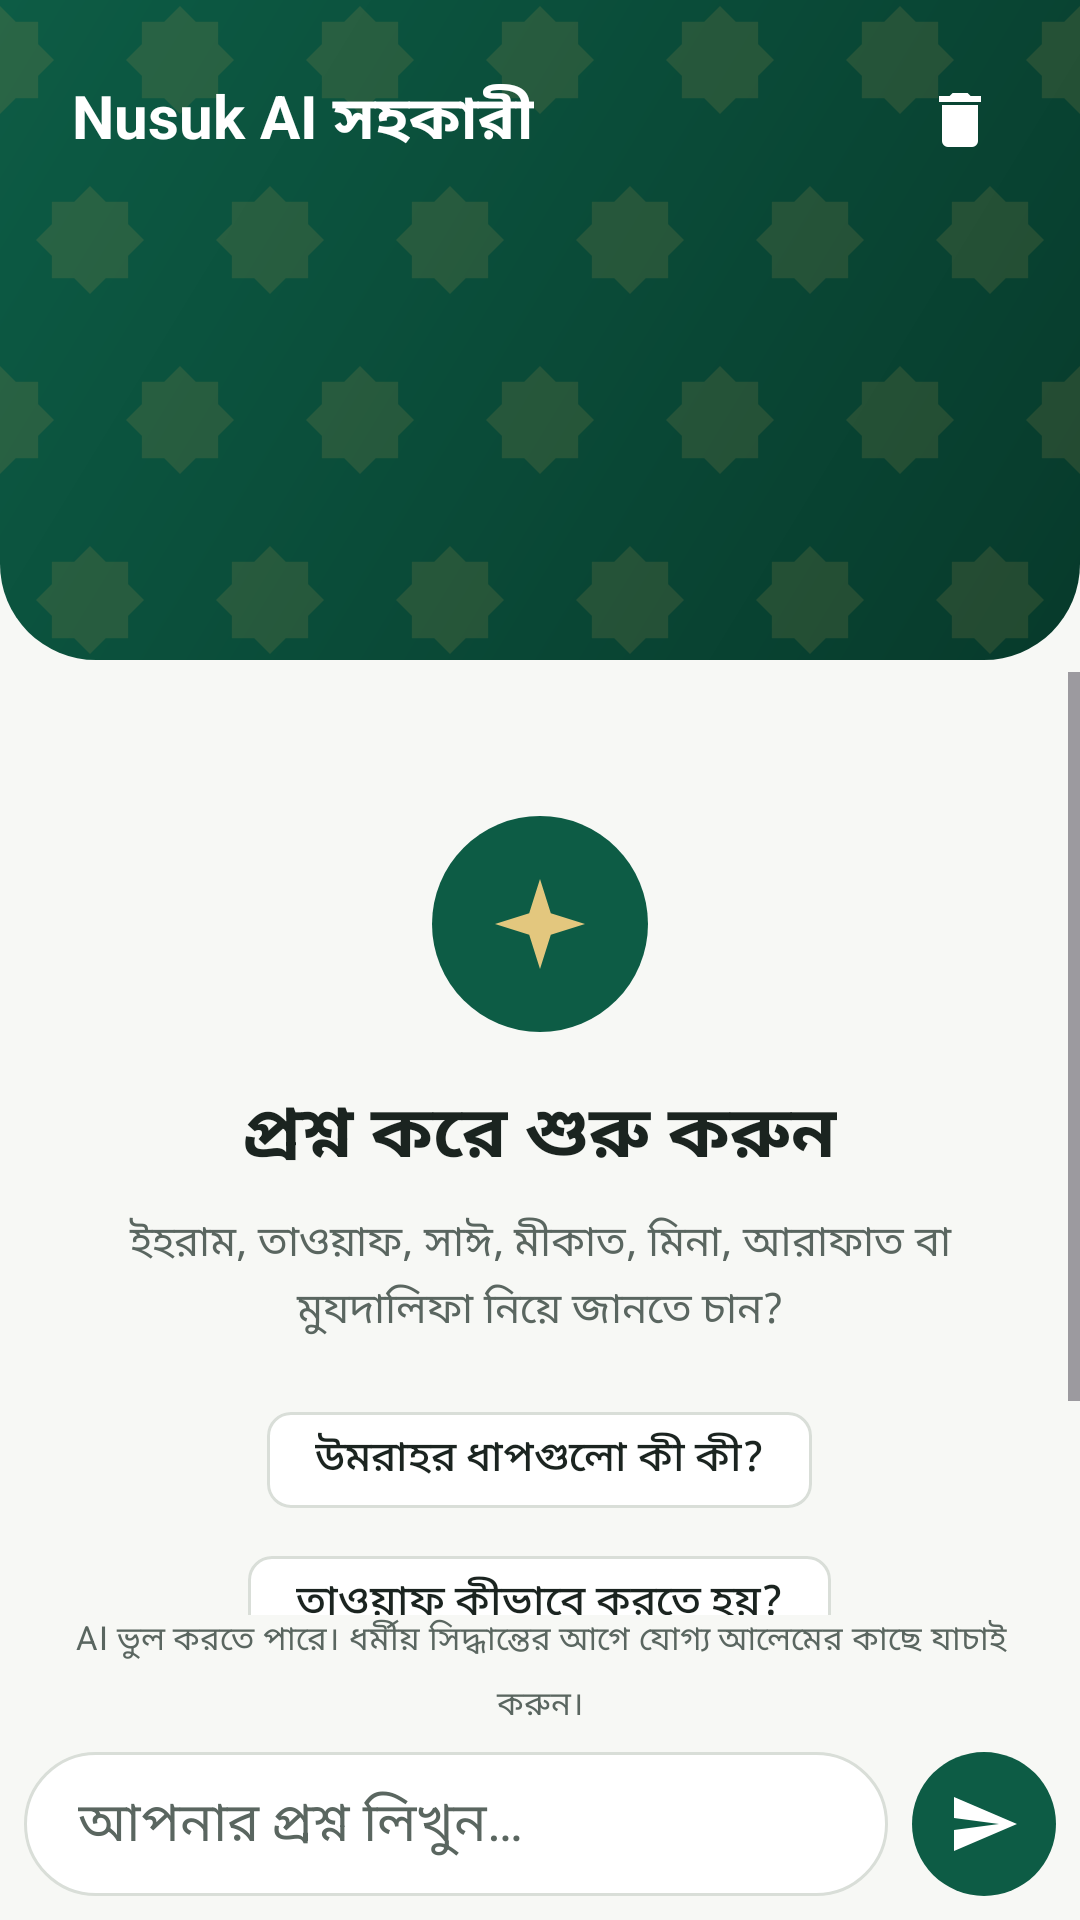

Icons on this 1080*1920 Android screen, each with the point to tap as point (x, y):
পাঠান: point (984, 1824)
